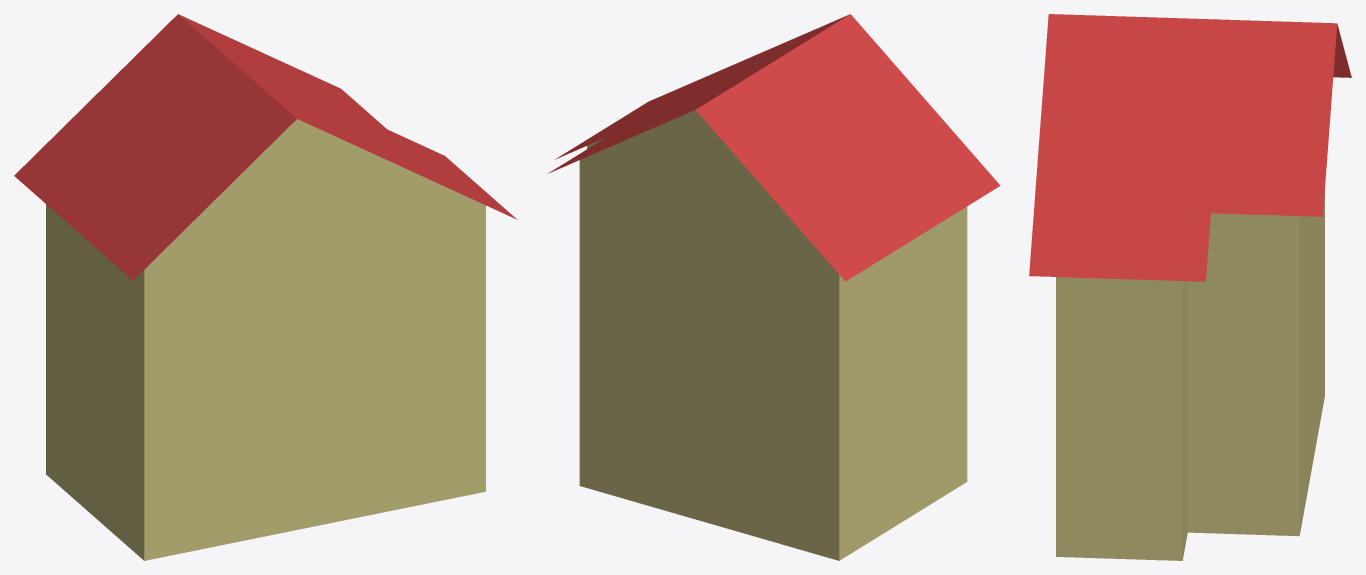
3 views of the same model, side by side, from view 1: azimuth 30°, elevation 25°; view 2: azimuth 150°, elevation 25°; view 3: azimuth 270°, elevation 25° (orthographic). The views are drawn at different scales.
Visible parts, largest first — view 1: group_5, group_3, group_4; view 2: group_5, group_3, group_4; view 3: group_5, group_3, group_4.
Boxes of the visible parts, <box> form: group_5: <box>46,119,485,560</box>; group_3: <box>20,14,485,280</box>; group_4: <box>14,14,517,279</box>; group_5: <box>579,110,967,560</box>; group_3: <box>547,14,1000,280</box>; group_4: <box>556,15,999,281</box>; group_5: <box>1056,190,1324,560</box>; group_3: <box>1030,14,1351,281</box>; group_4: <box>1029,14,1207,281</box>.
Size of the model in its own units: 13.75 by 9.63 by 14.62.
